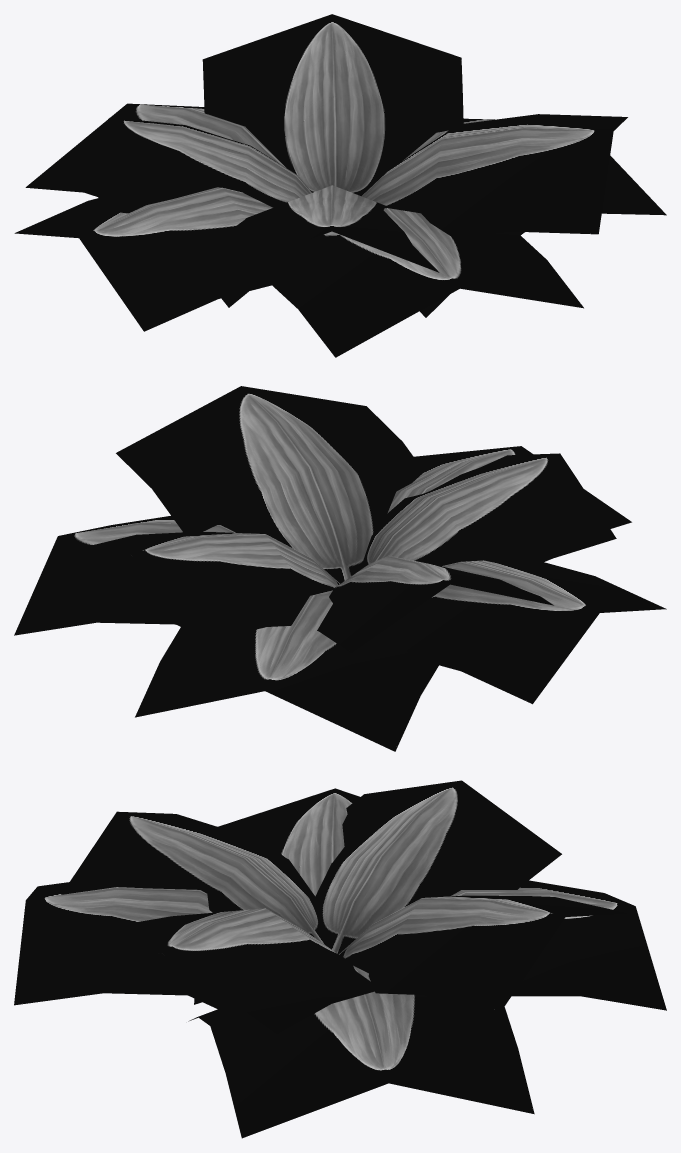
File: Fern01.fbx
The picture shows the model from 3 angles, top to bottom: view 1: azimuth 30°, elevation 25°; view 2: azimuth 150°, elevation 25°; view 3: azimuth 270°, elevation 25°; orthographic projection. The views are drawn at different scales.
Visible parts, largest first — view 1: Fern01_LOD0; view 2: Fern01_LOD0; view 3: Fern01_LOD0.
Part boxes in pixels (x1=…): Fern01_LOD0: x1=14, y1=14, x2=666, y2=357; Fern01_LOD0: x1=14, y1=386, x2=666, y2=751; Fern01_LOD0: x1=14, y1=780, x2=666, y2=1138.
Size of what is drawn, in the model's own units: 0.7419 by 0.1994 by 0.7505.
